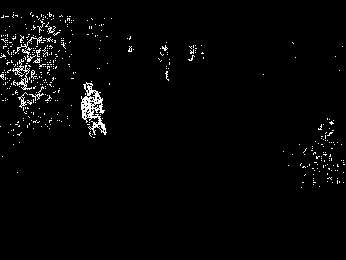person: (79, 81, 108, 140)
